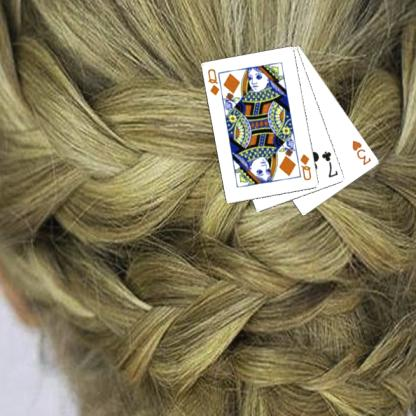3H: (349, 137, 373, 167)
7C: (319, 148, 340, 179)
QD: (297, 151, 313, 182), (205, 66, 221, 97)
